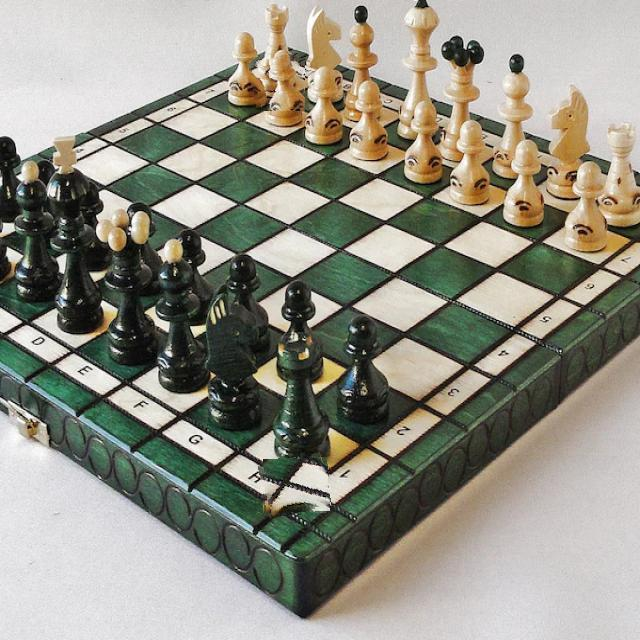chess-table-corners: (261, 456, 330, 516), (249, 55, 305, 111)
